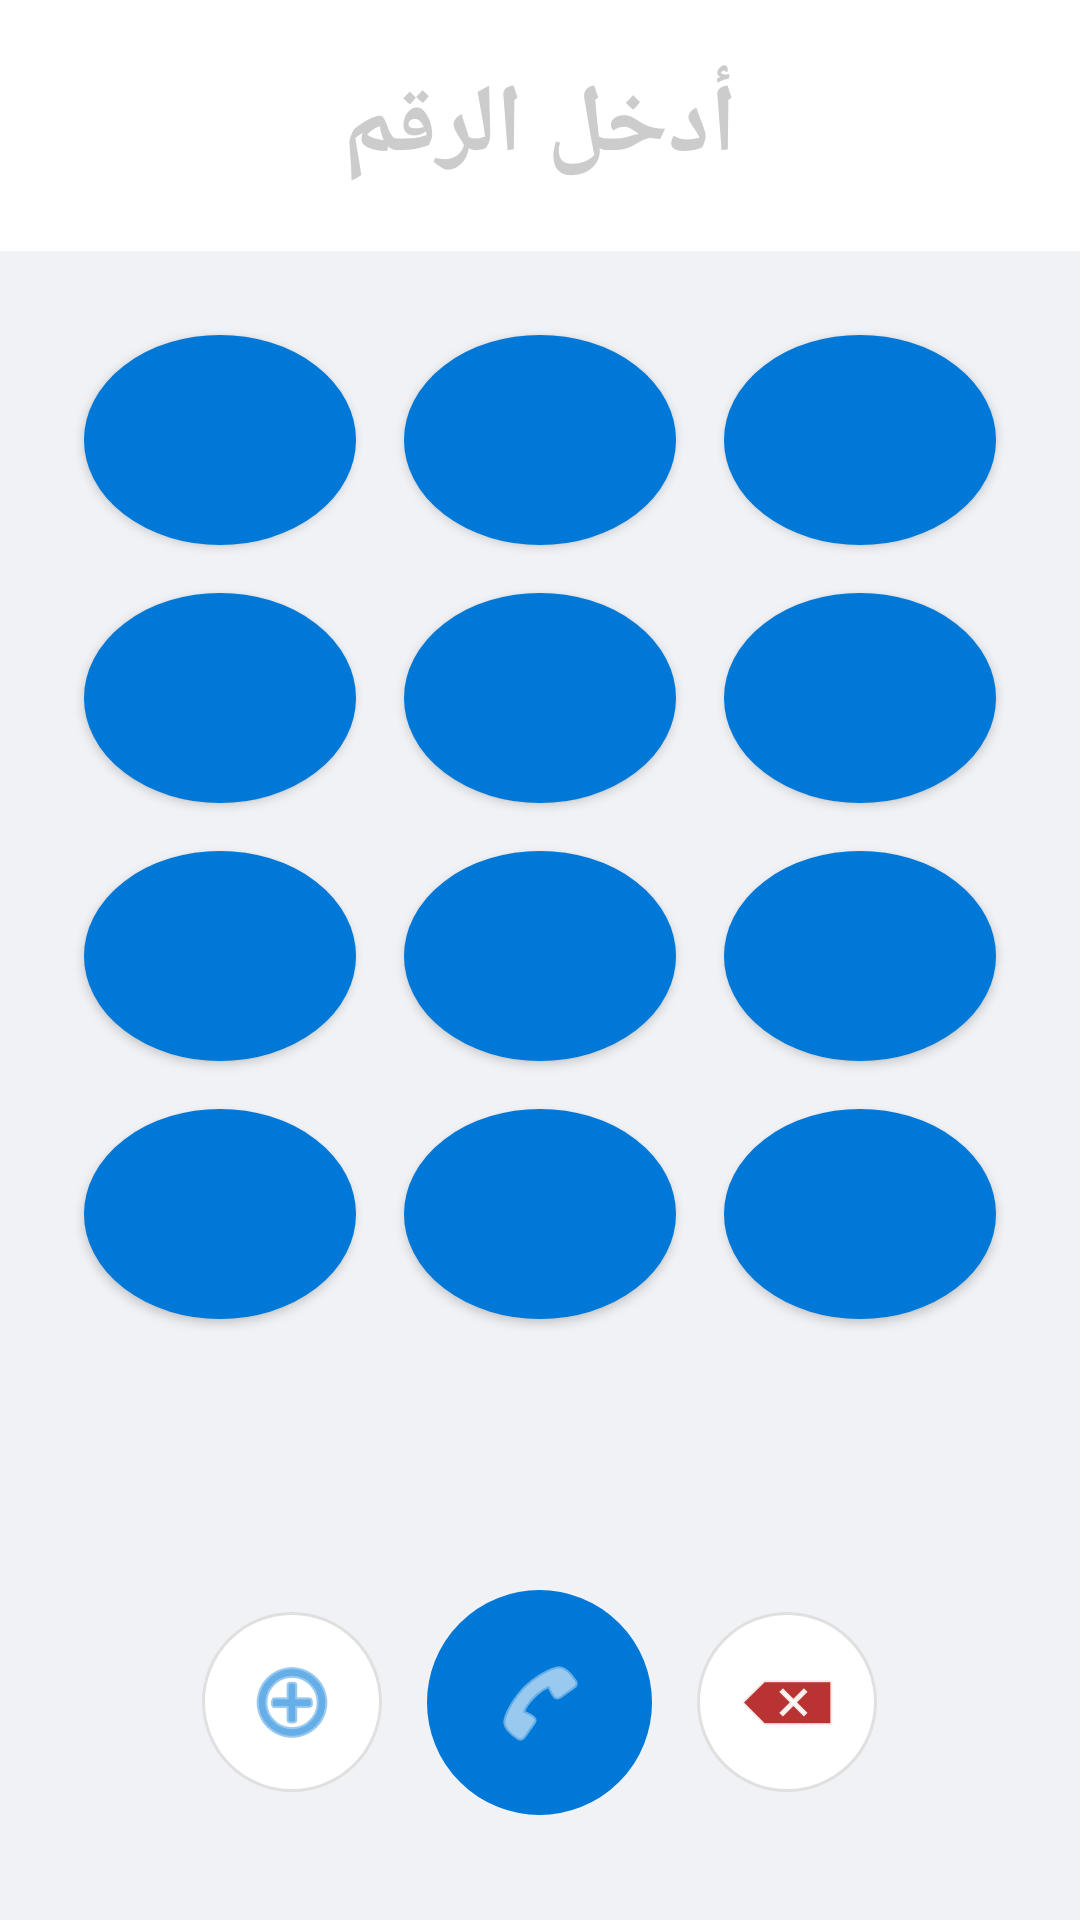

Where to tap for icons on this 1080*1920 app screen, as (x,y):
add: (292,1702)
call: (539,1702)
delete: (787,1703)
